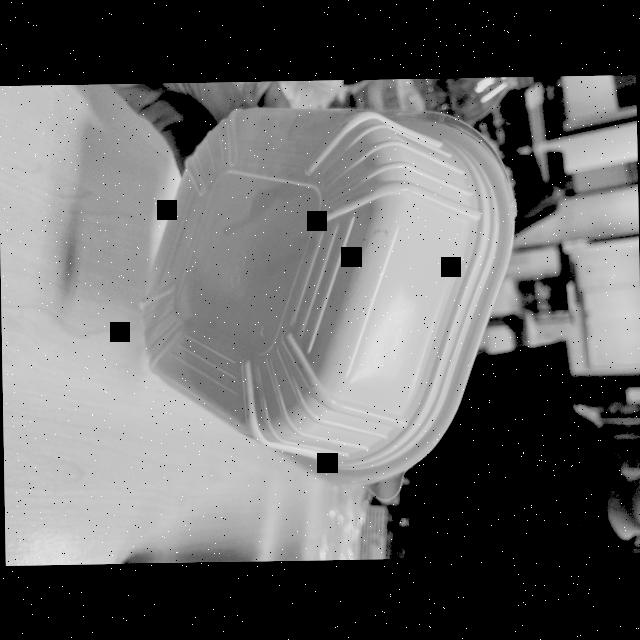plastic_box: (133, 85, 520, 498)
